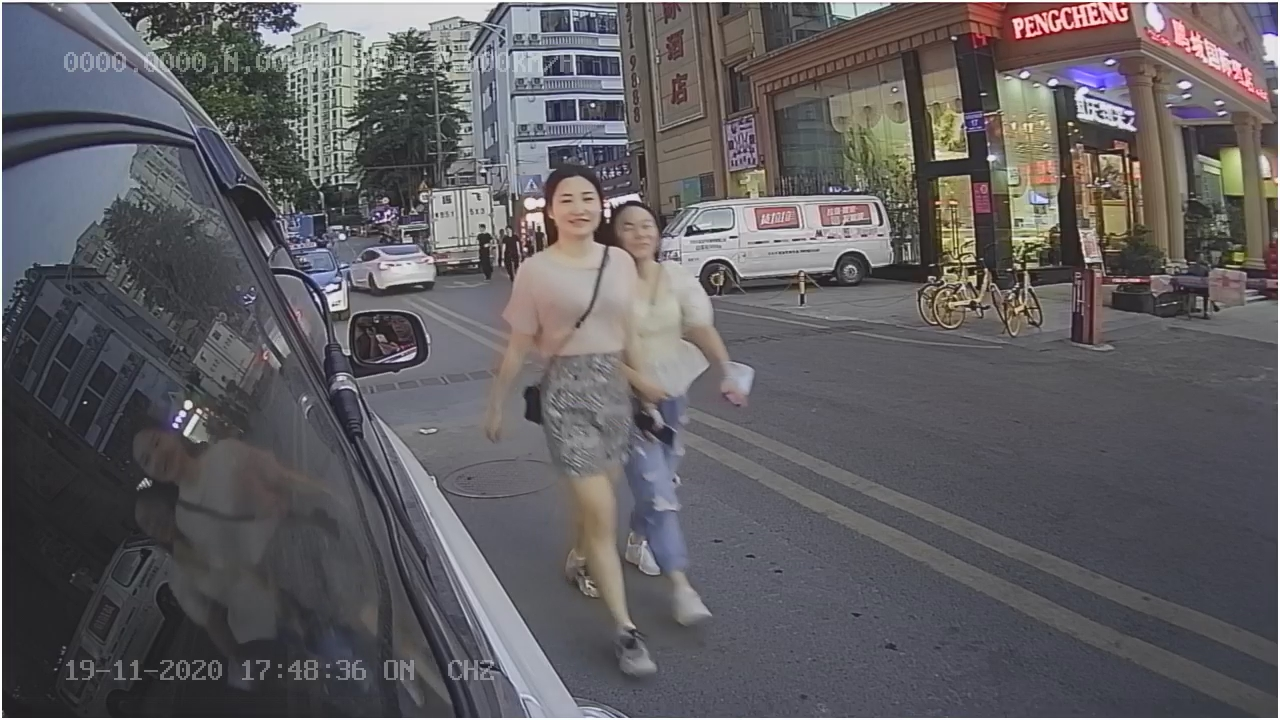person: (499, 164, 648, 566)
